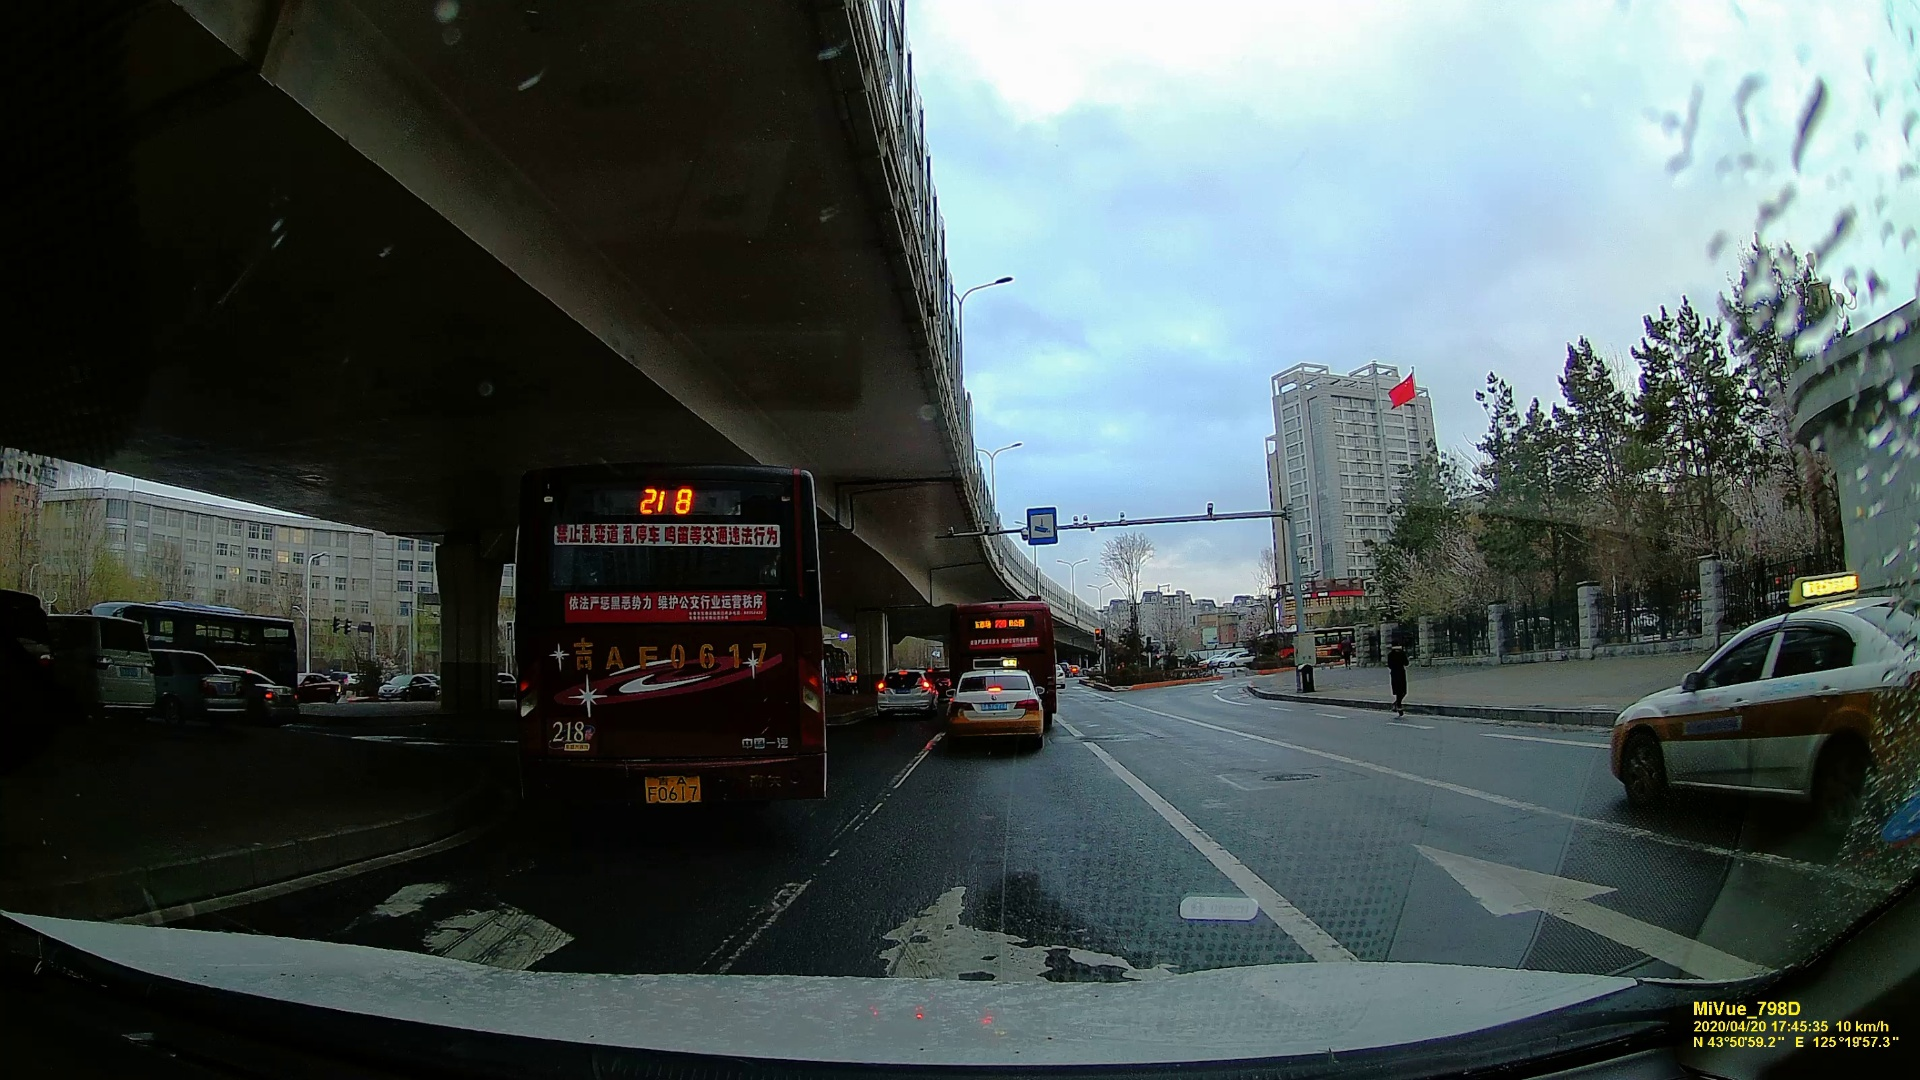bus: (516, 466, 826, 836), (85, 597, 296, 693), (952, 600, 1052, 704)
person: (1384, 644, 1410, 720)
traffic_sign: (1026, 510, 1054, 540), (332, 616, 340, 635), (345, 618, 352, 636)
vehicle: (1597, 594, 1913, 823), (940, 665, 1045, 738), (876, 667, 941, 718)
